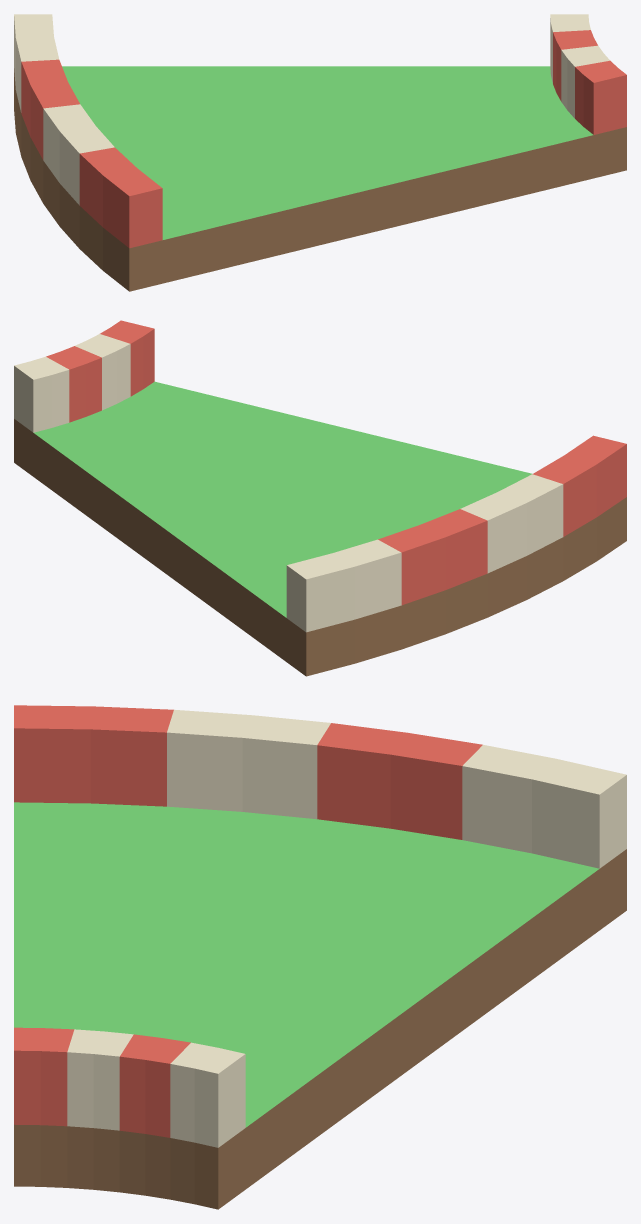
The model's file is carnival_turn_30deg_rounded.glb.
The picture shows the model from 3 angles, top to bottom: view 1: azimuth 30°, elevation 25°; view 2: azimuth 150°, elevation 25°; view 3: azimuth 270°, elevation 25°; orthographic projection. The views are drawn at different scales.
Parts seen in each view (by area): view 1: Mesh_Floor.007, Mesh_Wall_L.009, Mesh_Wall_R.009; view 2: Mesh_Floor.007, Mesh_Wall_L.009, Mesh_Wall_R.009; view 3: Mesh_Floor.007, Mesh_Wall_L.009, Mesh_Wall_R.009.
Boxes of the visible parts, bbox=[...] form: Mesh_Floor.007: bbox=[14, 66, 626, 291]; Mesh_Wall_L.009: bbox=[14, 14, 162, 248]; Mesh_Wall_R.009: bbox=[550, 14, 626, 134]; Mesh_Floor.007: bbox=[14, 381, 626, 676]; Mesh_Wall_L.009: bbox=[286, 435, 626, 632]; Mesh_Wall_R.009: bbox=[14, 320, 154, 432]; Mesh_Floor.007: bbox=[14, 802, 626, 1209]; Mesh_Wall_L.009: bbox=[14, 705, 626, 868]; Mesh_Wall_R.009: bbox=[14, 1027, 245, 1147].
Size of what is drawn, in the model's own units: 6.4 by 1.1 by 4.5.
